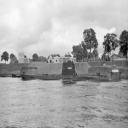submarine: (21, 62, 118, 84)
